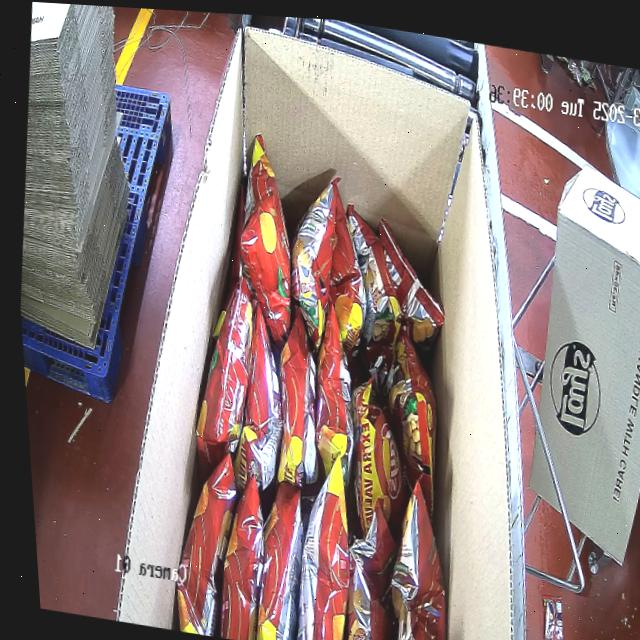MASALA: (141, 121, 498, 640)
